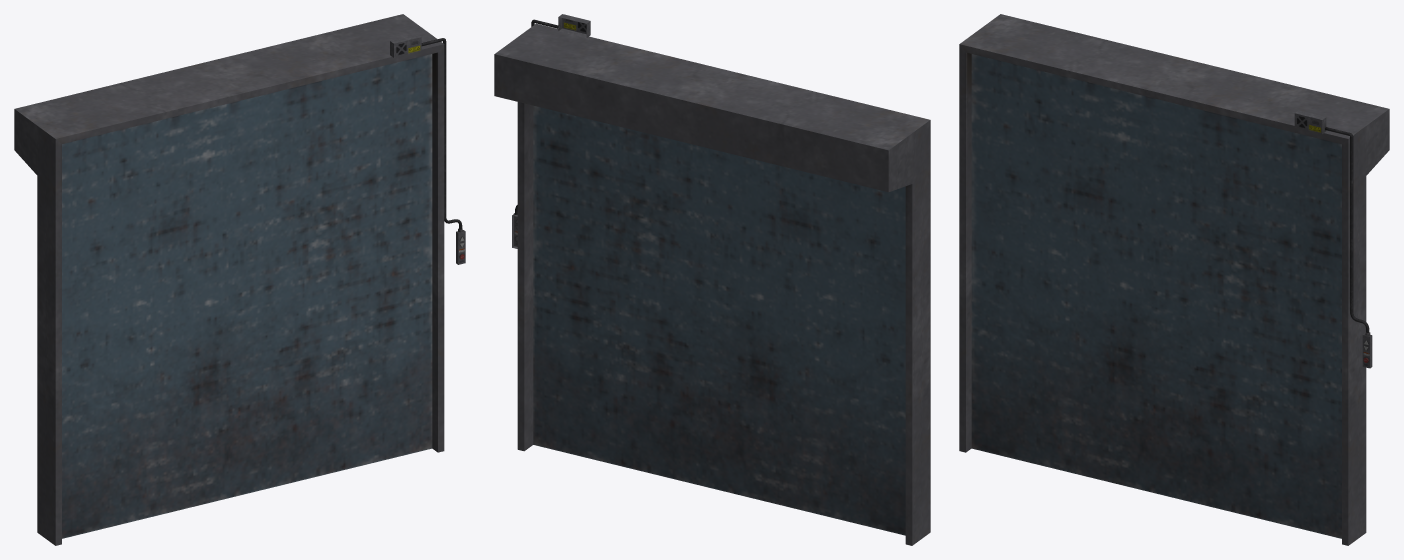
Rendered from Rollup Door 4.glb.
3 renders of one model, left to right at view 1: azimuth 30°, elevation 25°; view 2: azimuth 150°, elevation 25°; view 3: azimuth 330°, elevation 25°, orthographic.
Visible parts, largest first — view 1: Rollup_Door_4_Door, Rollup_Door_4_Door_Frame, Rollup_Door_4_Control_Switch; view 2: Rollup_Door_4_Door, Rollup_Door_4_Door_Frame, Rollup_Door_4_Control_Switch; view 3: Rollup_Door_4_Door, Rollup_Door_4_Door_Frame, Rollup_Door_4_Control_Switch.
Boxes of the visible parts, left/top/right/bottom form: Rollup_Door_4_Door: left=62, top=54, right=432, bottom=538; Rollup_Door_4_Door_Frame: left=14, top=14, right=444, bottom=545; Rollup_Door_4_Control_Switch: left=390, top=34, right=465, bottom=264; Rollup_Door_4_Door: left=533, top=105, right=905, bottom=535; Rollup_Door_4_Door_Frame: left=494, top=23, right=930, bottom=545; Rollup_Door_4_Control_Switch: left=512, top=14, right=590, bottom=248; Rollup_Door_4_Door: left=971, top=54, right=1341, bottom=538; Rollup_Door_4_Door_Frame: left=959, top=14, right=1389, bottom=545; Rollup_Door_4_Control_Switch: left=1294, top=110, right=1372, bottom=368.
Bounding box in the file's own units: 3.17 × 3.1 × 0.5721.
1 material, 1 textured.
